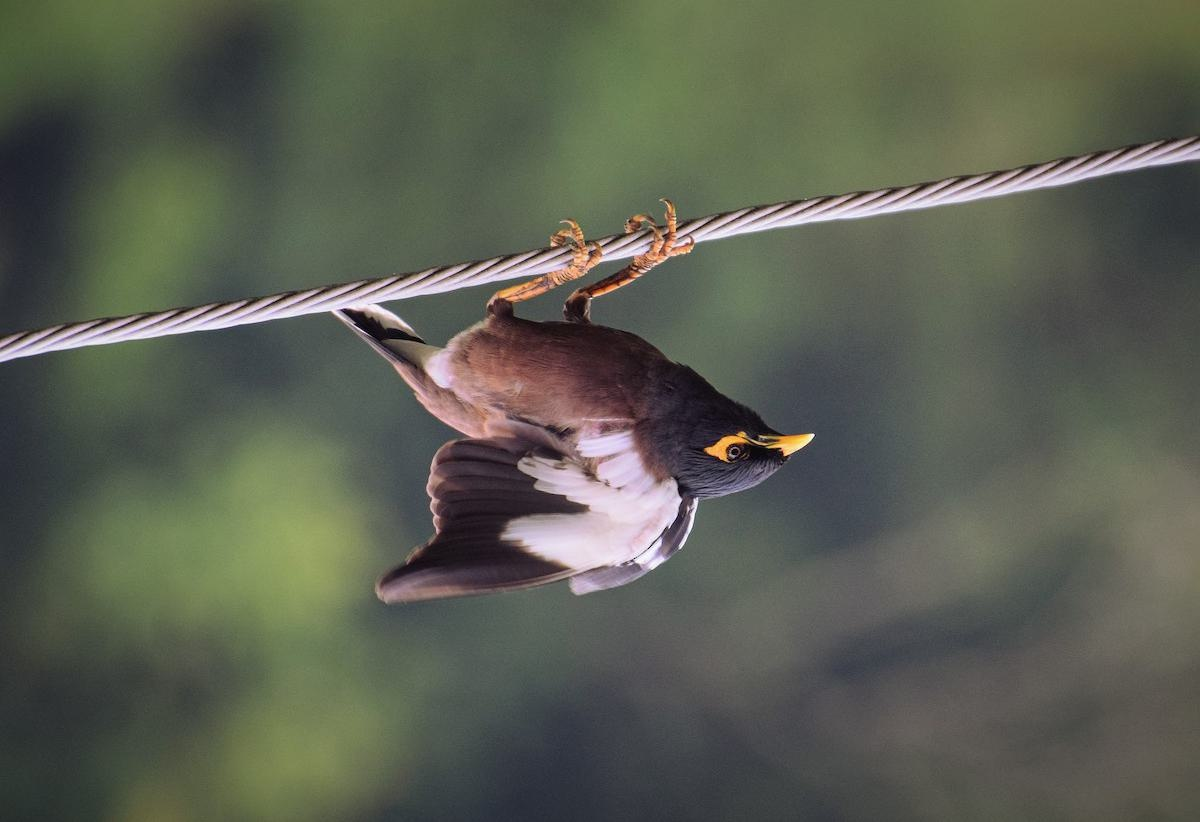myna: (337, 199, 830, 575)
